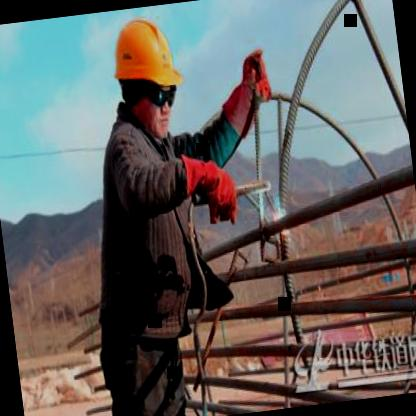helmet: (100, 3, 189, 148)
